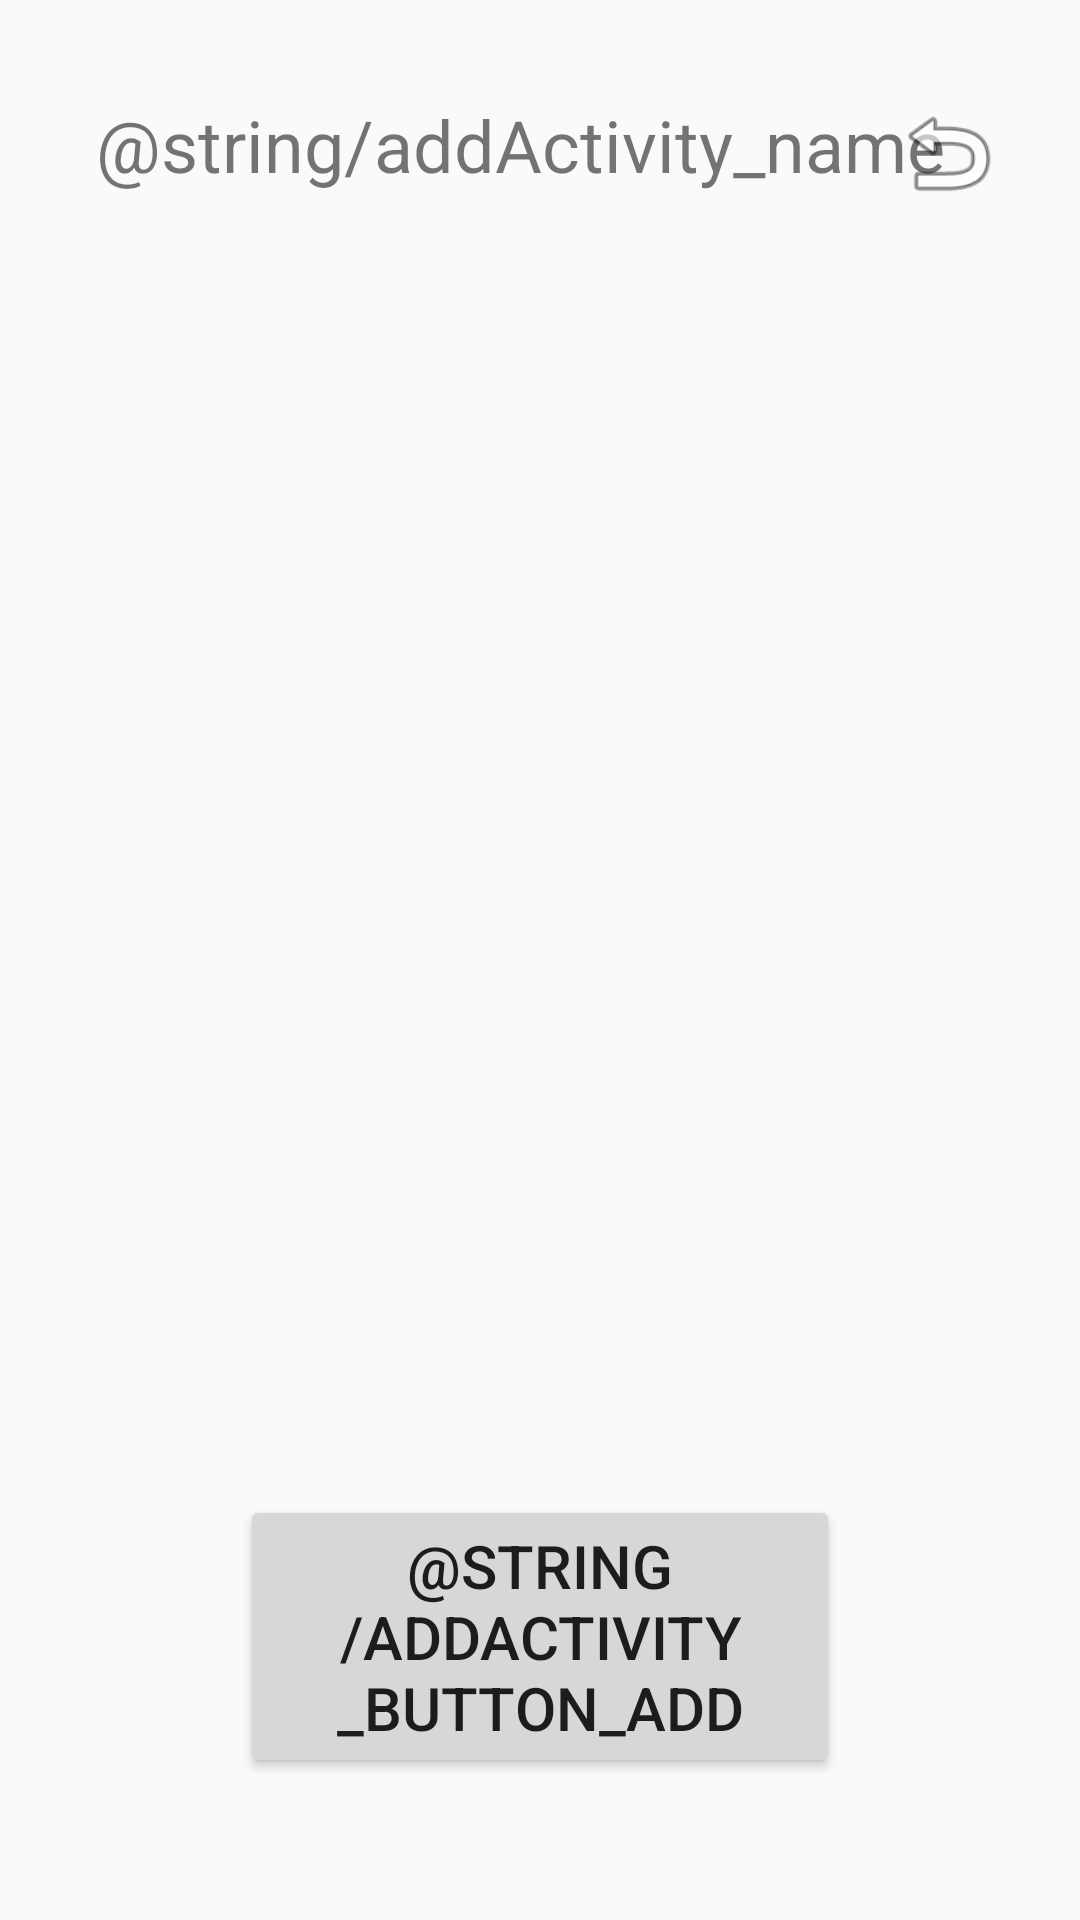

Where icons sit on this 1080×1920 app screen, as bbox(x1, y1, x2, y2):
revert: bbox(908, 117, 991, 191)
